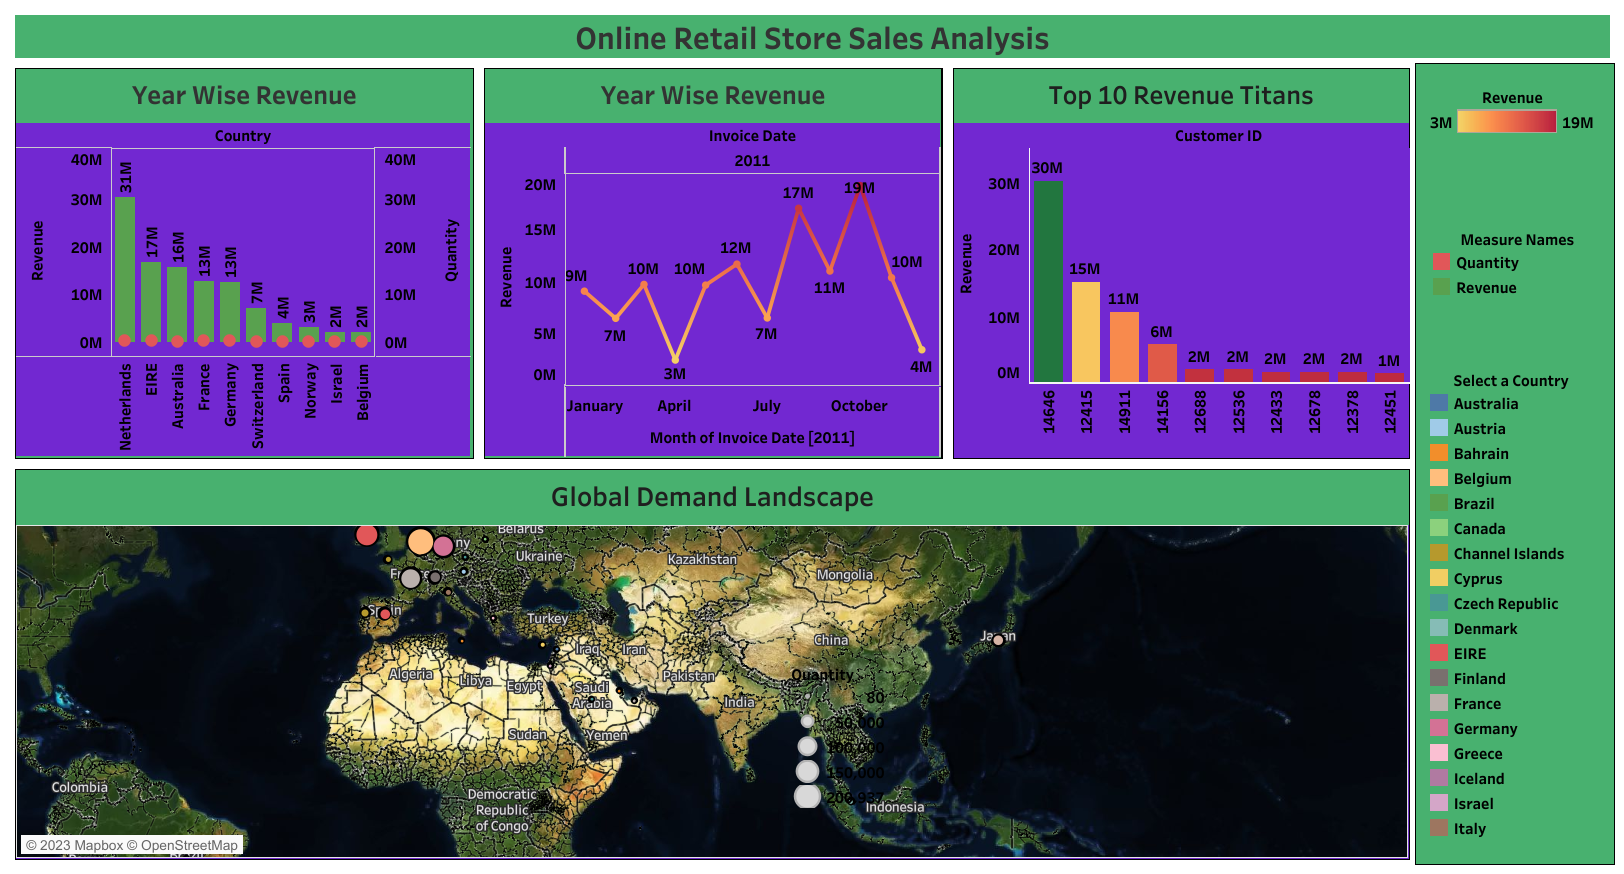

Layout of this report page (visuals, bound fields, positions):
{"tool":"tableau","page":{"name":"Dashboard ","canvas":[1300,700],"ordinal":0},"visuals":[{"type":"title","box":[8,8,1284,49]},{"type":"worksheet","title":"Question 2","mark":"Bar","rows":["Calculation_991636380671406080","Quantity"],"cols":["Country"],"box":[8,57,375,317]},{"type":"worksheet","title":"Question 1","mark":"Automatic","rows":["Calculation_991636380671406080"],"cols":["InvoiceDate","InvoiceDate"],"box":[383,57,375,317]},{"type":"worksheet","title":"Question 3","mark":"Automatic","rows":["Calculation_991636380671406080"],"cols":["CustomerID"],"box":[758,57,374,317]},{"type":"legend","title":"Question 1","param":"[federated.1qsod6c0ikfp611as2dc511isq8z].[sum:Calculation_991636380671406080:qk]","box":[1140,64,140,88]},{"type":"legend","title":"Question 2","param":"[federated.1qsod6c0ikfp611as2dc511isq8z].[:Measure Names]","box":[1143,180,140,64]},{"type":"legend","title":"Sheet 4","param":"[federated.1qsod6c0ikfp611as2dc511isq8z].[none:Country:nk]","box":[1141,293,134,378]},{"type":"worksheet","title":"Sheet 4","mark":"Automatic","box":[8,374.5,1124,317.5]},{"type":"legend","title":"Sheet 4","param":"[federated.1qsod6c0ikfp611as2dc511isq8z].[sum:Quantity:qk]","box":[632,528,140,127]}]}

Visuals, with their boxes in screenshot pixels (x1, y1, x2, y2), scaled from the page's 1300x700 canvas onto the 1624x874 screenshot:
title: 10, 10, 1614, 71
"Question 2" worksheet (Bar marks): 10, 71, 478, 467
"Question 1" worksheet: 478, 71, 947, 467
"Question 3" worksheet: 947, 71, 1414, 467
"Question 1" legend: 1424, 80, 1599, 190
"Question 2" legend: 1428, 225, 1603, 305
"Sheet 4" legend: 1425, 366, 1593, 838
"Sheet 4" worksheet: 10, 468, 1414, 864
"Sheet 4" legend: 790, 659, 964, 818
